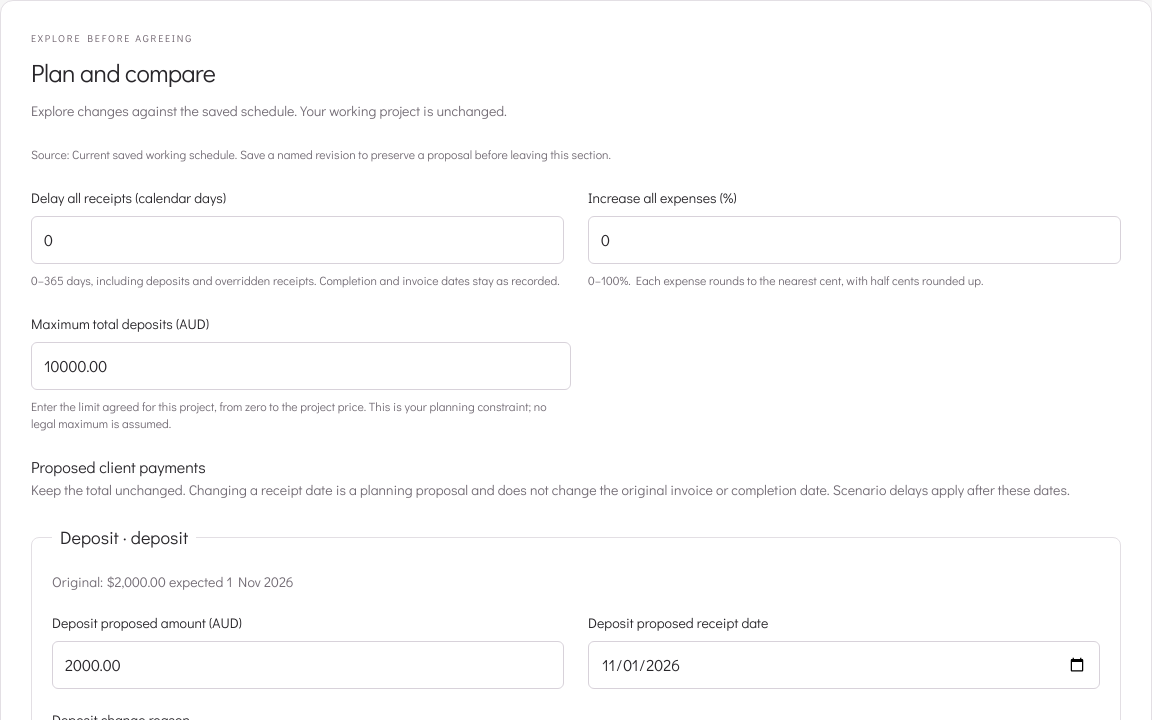
Scenario: requires a balanced total and a reason for manual payment changes
The width and height of the screenshot is (1152, 720).
Replace the text in the field labelled "Deposit proposed amount (AUD)" with "3000": (308, 665) [52,641,564,689]
(page scrolled)
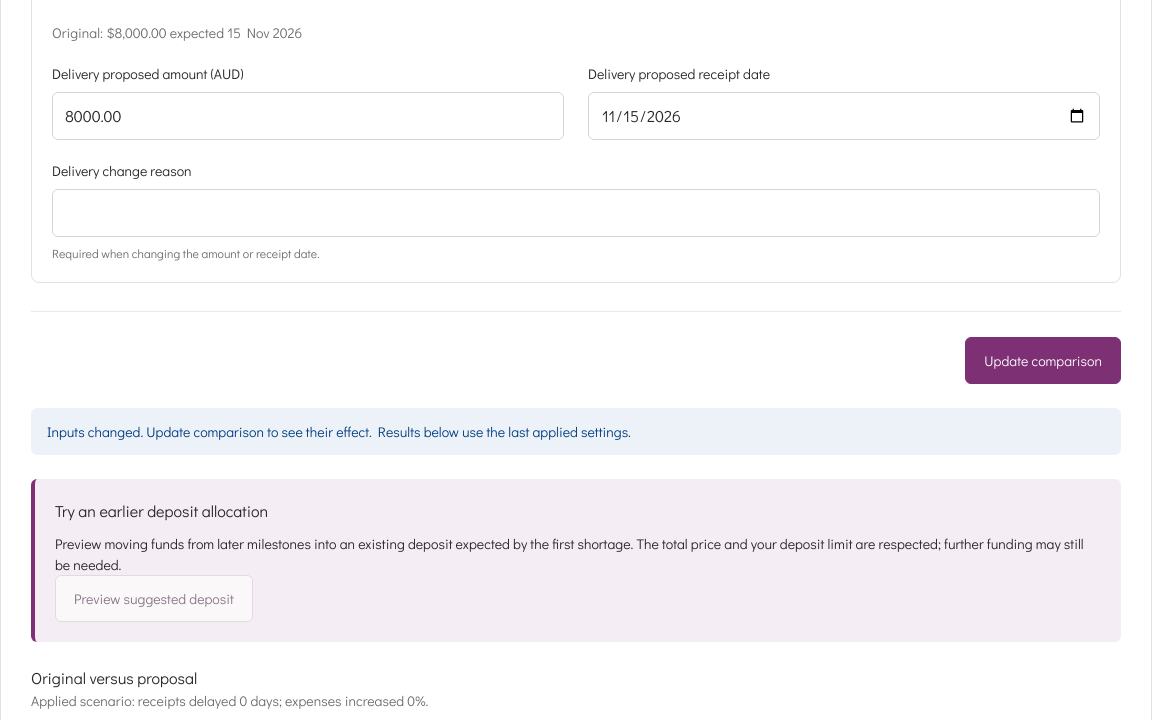
Click the button "Update comparison": (1043, 360) [965,337,1121,384]
(page scrolled)
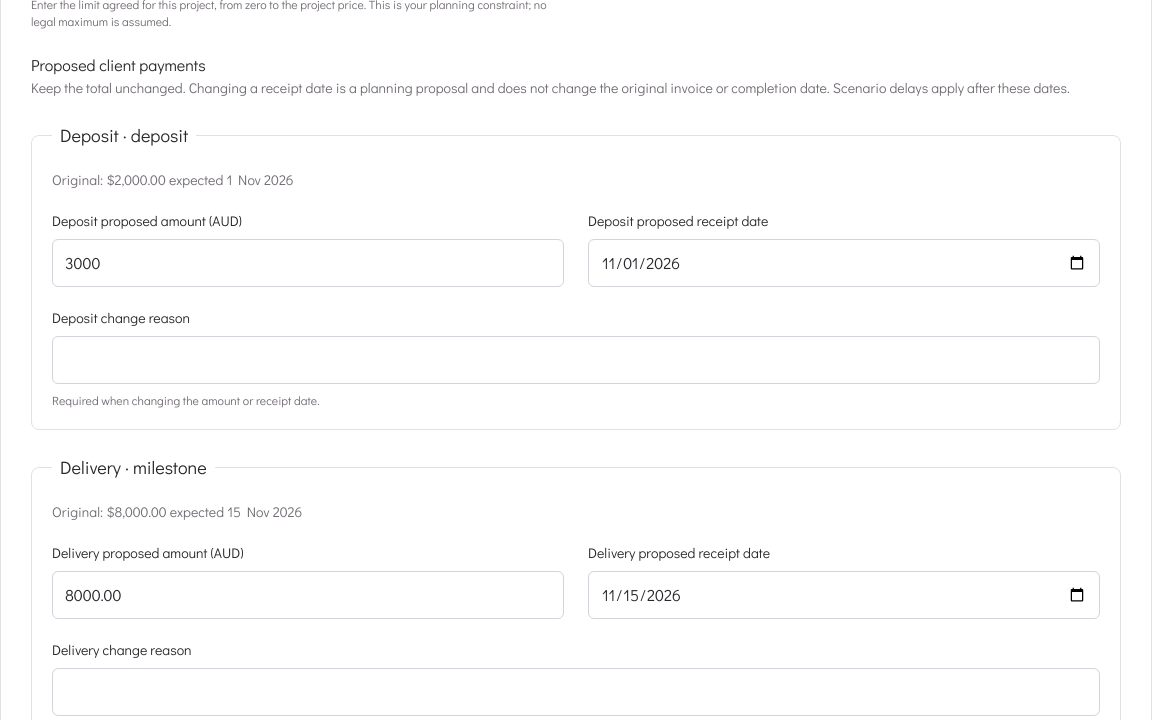
In the field labelled "Deposit change reason": (576, 360) [52,336,1100,384], type "Cover materials"
(page scrolled)
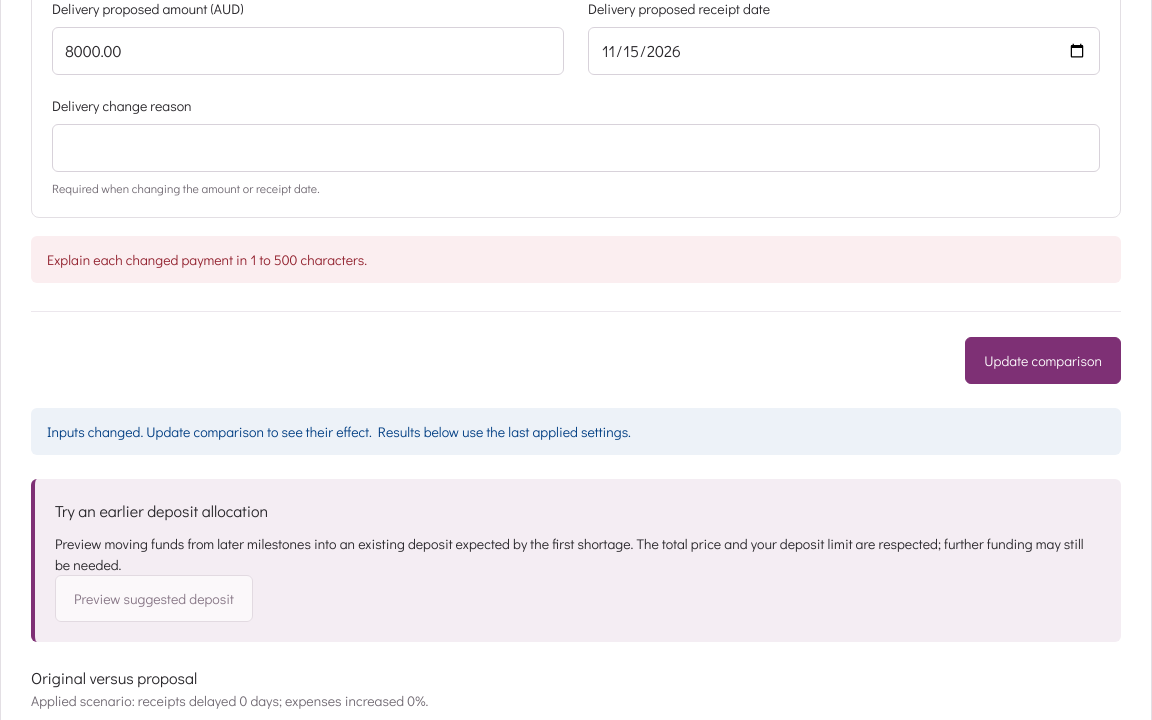
Click the button "Update comparison": (1043, 360) [965,337,1121,384]
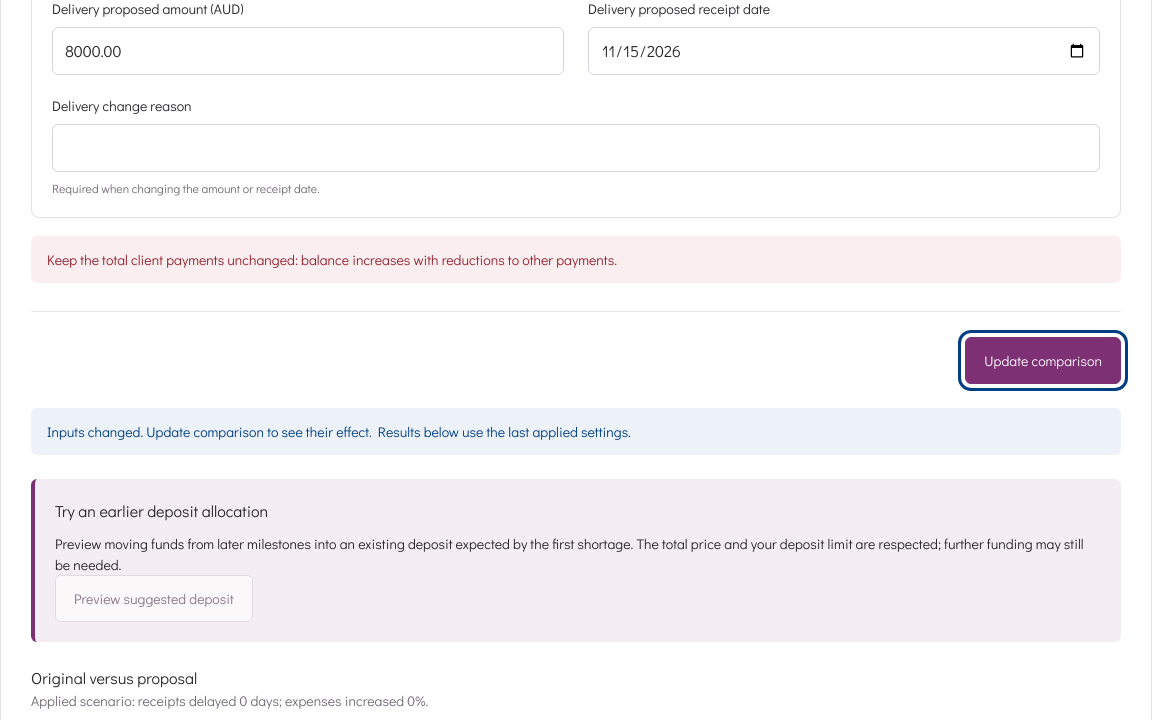
Expected: the 1st message shows "Keep the total client payments unchanged", [47,250,617,269]
